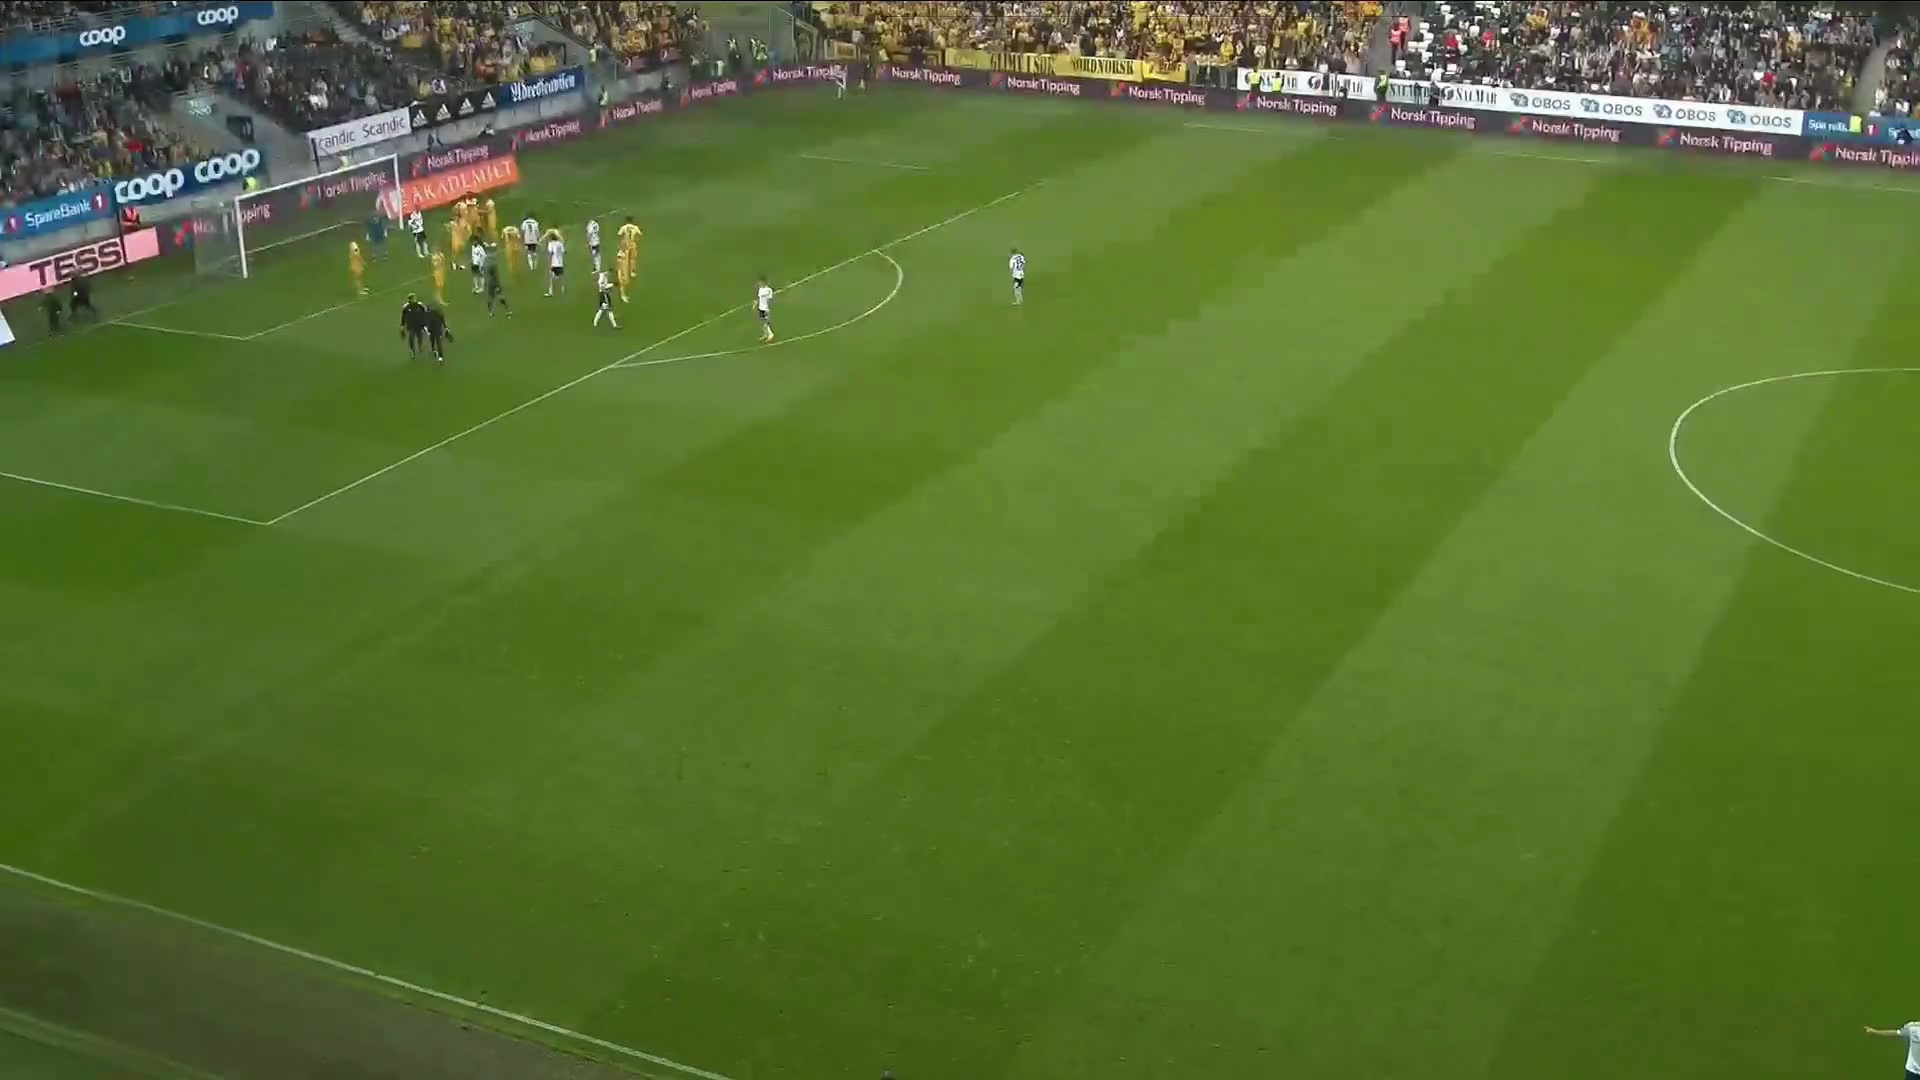player: (1859, 1019, 1920, 1080), (592, 264, 623, 329), (752, 275, 780, 343), (483, 261, 514, 320), (616, 214, 643, 280), (362, 204, 390, 264), (445, 209, 470, 272), (544, 230, 567, 297), (348, 240, 371, 297), (519, 212, 541, 271), (614, 238, 633, 304), (430, 244, 449, 304), (1008, 245, 1026, 305), (409, 210, 430, 258), (470, 239, 488, 294), (586, 217, 602, 274), (501, 225, 520, 273), (857, 52, 875, 94), (833, 63, 848, 100)
